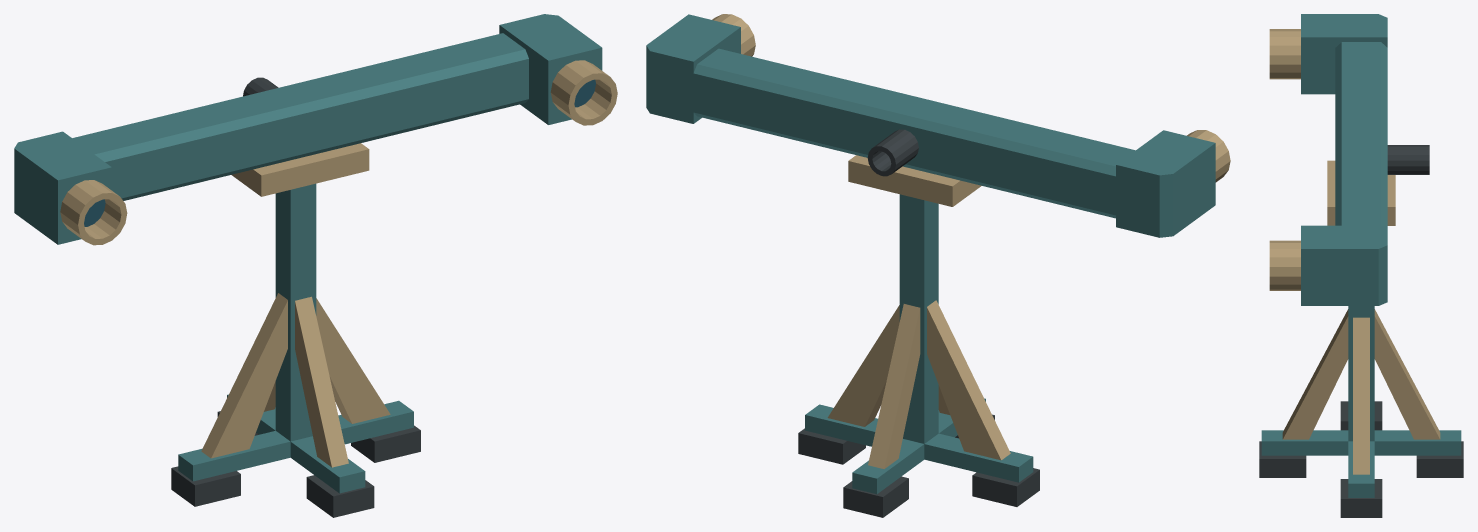
The picture shows the model from 3 angles, left to right: view 1: azimuth 30°, elevation 25°; view 2: azimuth 150°, elevation 25°; view 3: azimuth 270°, elevation 25°; orthographic projection. The views are drawn at different scales.
Visible parts, largest first — view 1: ContinuousHorizontalBaseline, CentralColumn, ContinuousCrossFrame, FoldedEndHead_Left, DiagonalBrace_West, FoldedEndHead_Right, DiagonalBrace_Front, ThickCentralSaddle, DiagonalBrace_East, ThickObjectiveMouth_Right, ThickObjectiveMouth_Left, GroundFoot_West (+2 smaller); view 2: ContinuousHorizontalBaseline, FoldedEndHead_Left, CentralColumn, ContinuousCrossFrame, FoldedEndHead_Right, DiagonalBrace_West, DiagonalBrace_Back, DiagonalBrace_East, ThickCentralSaddle, GroundFoot_West, GroundFoot_Back, CentralRearOcular (+3 smaller); view 3: ContinuousHorizontalBaseline, FoldedEndHead_Right, ContinuousCrossFrame, FoldedEndHead_Left, DiagonalBrace_Back, DiagonalBrace_Front, DiagonalBrace_East, ThickObjectiveMouth_Left, ThickObjectiveMouth_Right, CentralColumn, CentralRearOcular, GroundFoot_East (+4 smaller).
Part boxes in pixels (<box>): ContinuousHorizontalBaseline: <box>72,33,528,200</box>; CentralColumn: <box>275,183,316,441</box>; ContinuousCrossFrame: <box>178,394,413,493</box>; FoldedEndHead_Left: <box>14,131,111,244</box>; DiagonalBrace_West: <box>201,293,287,458</box>; FoldedEndHead_Right: <box>499,14,602,124</box>; DiagonalBrace_Front: <box>295,296,348,467</box>; ThickCentralSaddle: <box>231,143,369,196</box>; DiagonalBrace_East: <box>316,298,390,423</box>; ThickObjectiveMouth_Right: <box>550,60,617,125</box>; ThickObjectiveMouth_Left: <box>60,180,127,245</box>; GroundFoot_West: <box>171,466,240,506</box>; ContinuousHorizontalBaseline: <box>693,48,1135,218</box>; FoldedEndHead_Left: <box>1116,130,1215,237</box>; CentralColumn: <box>899,194,938,443</box>; ContinuousCrossFrame: <box>805,398,1033,494</box>; FoldedEndHead_Right: <box>646,14,740,123</box>; DiagonalBrace_West: <box>927,300,1010,460</box>; DiagonalBrace_Back: <box>868,304,920,468</box>; DiagonalBrace_East: <box>827,305,899,426</box>; ThickCentralSaddle: <box>848,155,981,206</box>; GroundFoot_West: <box>972,468,1039,506</box>; GroundFoot_Back: <box>843,476,908,517</box>; CentralRearOcular: <box>867,129,918,176</box>; ContinuousHorizontalBaseline: <box>1335,42,1387,225</box>; FoldedEndHead_Right: <box>1301,225,1387,305</box>; ContinuousCrossFrame: <box>1261,430,1461,497</box>; FoldedEndHead_Left: <box>1301,14,1387,94</box>; DiagonalBrace_Back: <box>1374,309,1440,439</box>; DiagonalBrace_Front: <box>1282,309,1348,439</box>; DiagonalBrace_East: <box>1353,317,1369,474</box>; ThickObjectiveMouth_Left: <box>1269,29,1300,79</box>; ThickObjectiveMouth_Right: <box>1269,240,1300,290</box>; CentralColumn: <box>1348,306,1374,441</box>; CentralRearOcular: <box>1387,145,1429,174</box>; GroundFoot_East: <box>1340,479,1382,517</box>.
Size of the model in its own units: 2.12 by 1.42 by 0.78.
